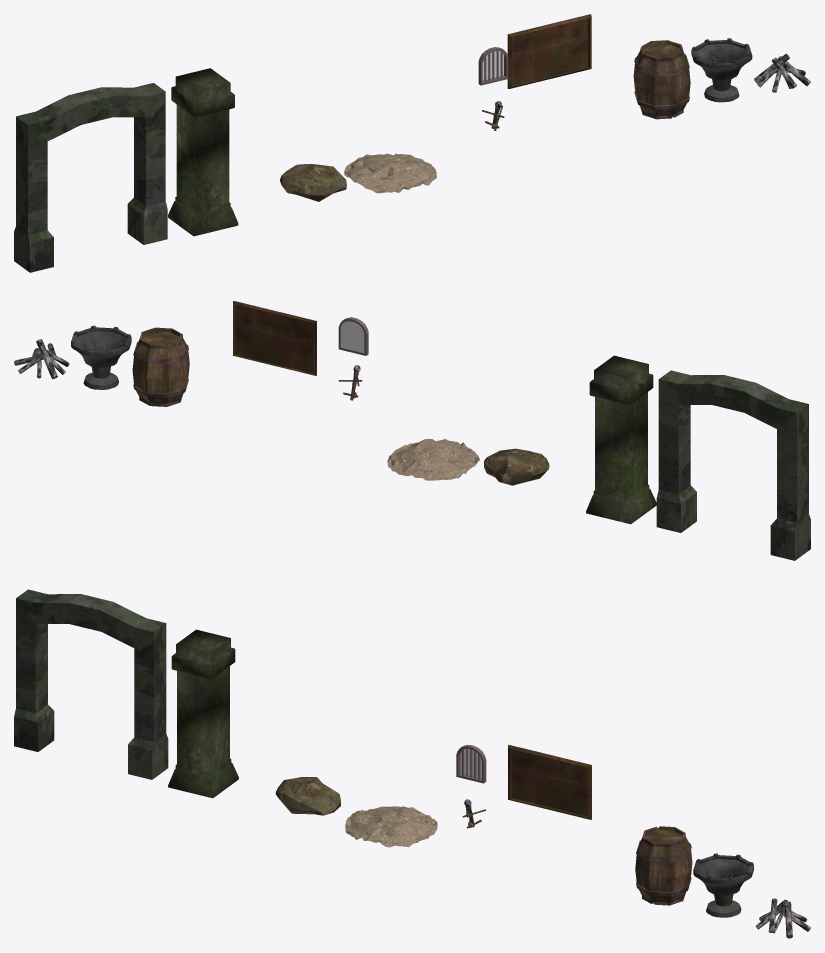
Rendered from DungeonObjects.fbx.
3 views of the same model, one above another, from view 1: azimuth 30°, elevation 25°; view 2: azimuth 150°, elevation 25°; view 3: azimuth 330°, elevation 25° (orthographic).
Visible parts, largest first — view 1: arch, pillar, pictureFrame, puncheon, ground, flameStand, rock, background, bonfire; view 2: arch, pillar, pictureFrame, puncheon, ground, flameStand, rock, background, bonfire; view 3: arch, pillar, pictureFrame, puncheon, ground, flameStand, rock, background, bonfire.
Part boxes in pixels (x1,y1,x2,y2): arch: (14,83,167,272); pillar: (168,68,238,236); pictureFrame: (507,14,591,88); puncheon: (633,40,690,119); ground: (344,153,436,193); flameStand: (691,38,752,102); rock: (280,164,346,201); background: (478,47,508,85); bonfire: (754,53,810,92); arch: (656,370,810,560); pillar: (586,355,656,524); pictureFrame: (233,301,316,375); puncheon: (132,327,189,406); ground: (387,439,479,480); flameStand: (71,325,131,389); rock: (484,448,549,485); background: (338,317,368,355); bonfire: (14,339,69,379); arch: (14,589,168,779); pillar: (168,629,238,798); pictureFrame: (508,745,591,819); puncheon: (635,826,692,905); ground: (345,806,437,847); flameStand: (693,853,753,917); rock: (275,777,340,815); background: (456,745,486,783); bonfire: (755,898,810,938).
Bounding box in the file's own units: 4833 × 918 × 486.
